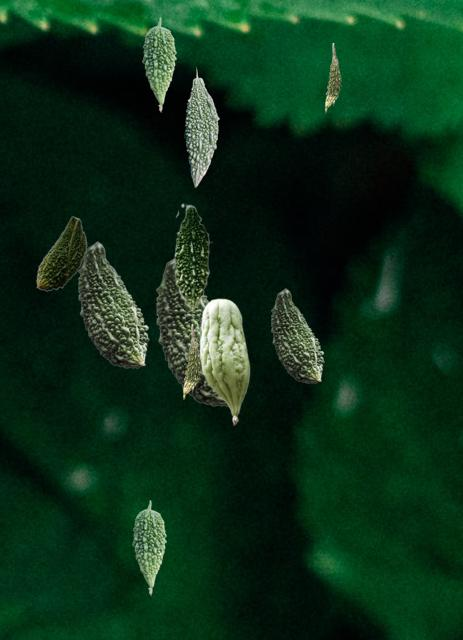ampalaya: (156, 258, 226, 405), (78, 241, 148, 367), (199, 298, 249, 424), (271, 288, 323, 382), (184, 67, 218, 186), (174, 203, 211, 309), (36, 216, 86, 290), (132, 500, 165, 594), (142, 17, 175, 111), (183, 324, 200, 398), (325, 43, 340, 111)
